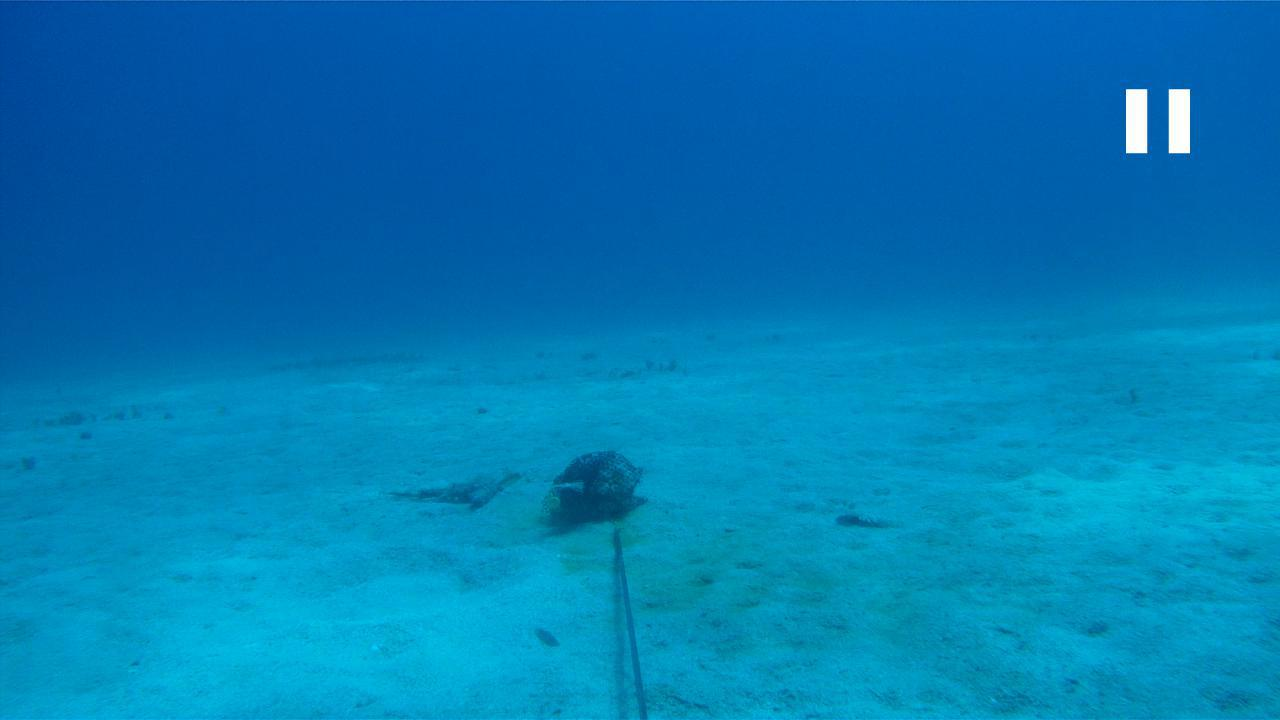bothus: (831, 498, 918, 528)
